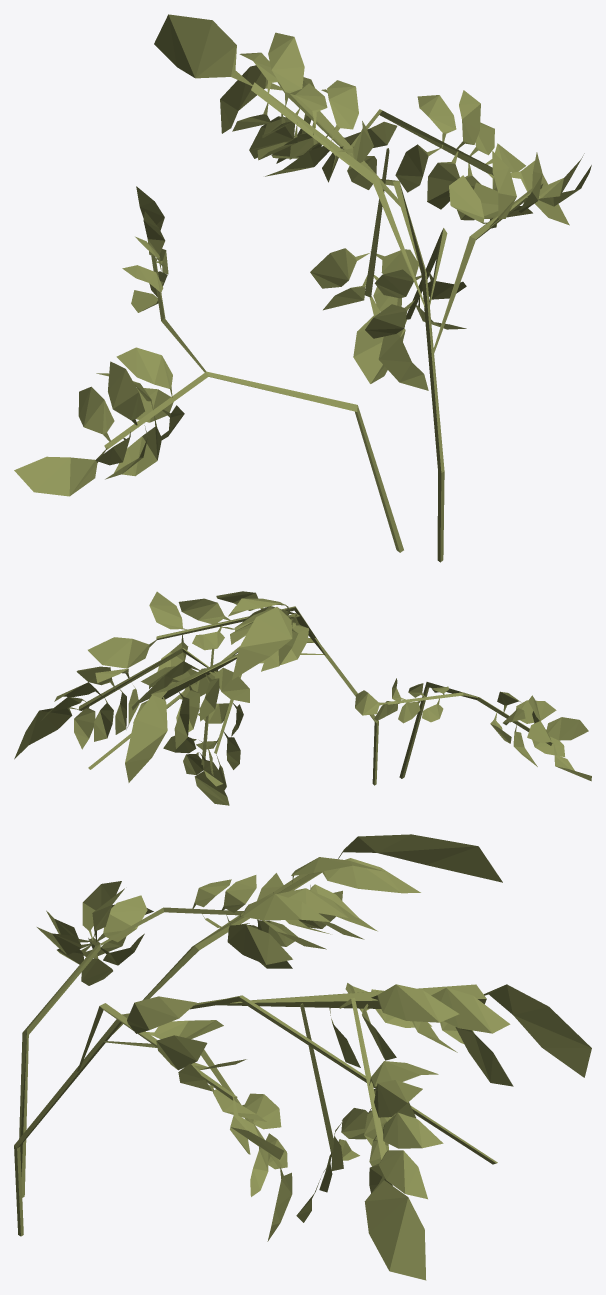
The model's file is Potato_5.fbx.
3 views of the same model, one above another, from view 1: azimuth 30°, elevation 25°; view 2: azimuth 150°, elevation 25°; view 3: azimuth 270°, elevation 25° (orthographic). The views are drawn at different scales.
Parts seen in each view (by area): view 1: Potato_5; view 2: Potato_5; view 3: Potato_5.
Boxes of the visible parts, left/top/right/bottom form: Potato_5: left=14, top=14, right=591, bottom=562; Potato_5: left=14, top=591, right=591, bottom=805; Potato_5: left=14, top=834, right=591, bottom=1280.
Bounding box in the file's own units: 183 × 100 × 135.
